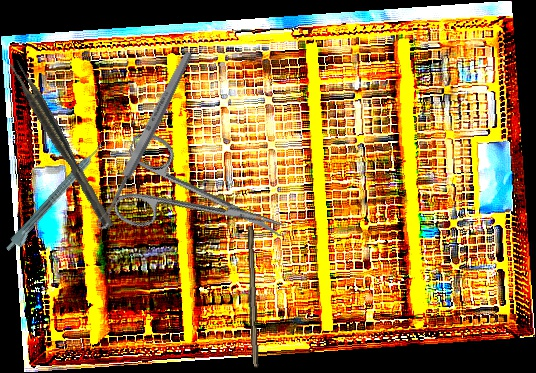Handpiece: (3, 141, 110, 257)
Iris Scissors: (104, 128, 298, 277)
Scalpel Handle: (243, 225, 261, 369)
Surgical Spoon: (93, 48, 196, 232)
Tissue Forceps: (7, 57, 114, 233)
